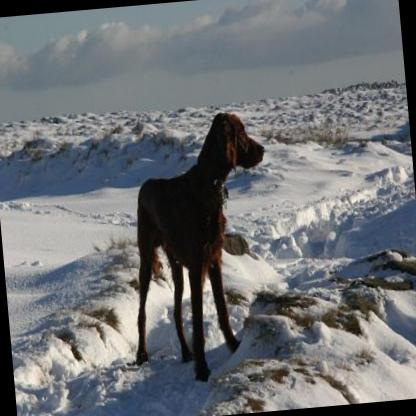Irish_setter: (114, 105, 287, 387)
